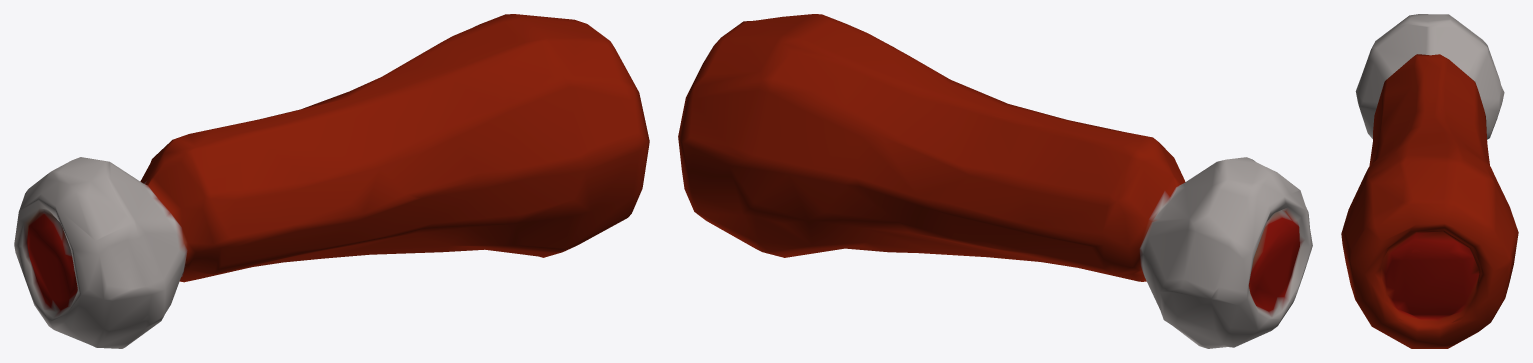
The model's file is gen3d-chicken-leg-lod0.glb.
The picture shows the model from 3 angles, left to right: view 1: azimuth 30°, elevation 25°; view 2: azimuth 150°, elevation 25°; view 3: azimuth 270°, elevation 25°; orthographic projection. The views are drawn at different scales.
Parts seen in each view (by area): view 1: part_0; view 2: part_0; view 3: part_0.
Boxes of the visible parts, x1=… form: part_0: x1=14, y1=14, x2=649, y2=348; part_0: x1=678, y1=14, x2=1312, y2=348; part_0: x1=1341, y1=14, x2=1518, y2=348.
Size of the model in its own units: 2.69 by 0.9913 by 0.9282.
